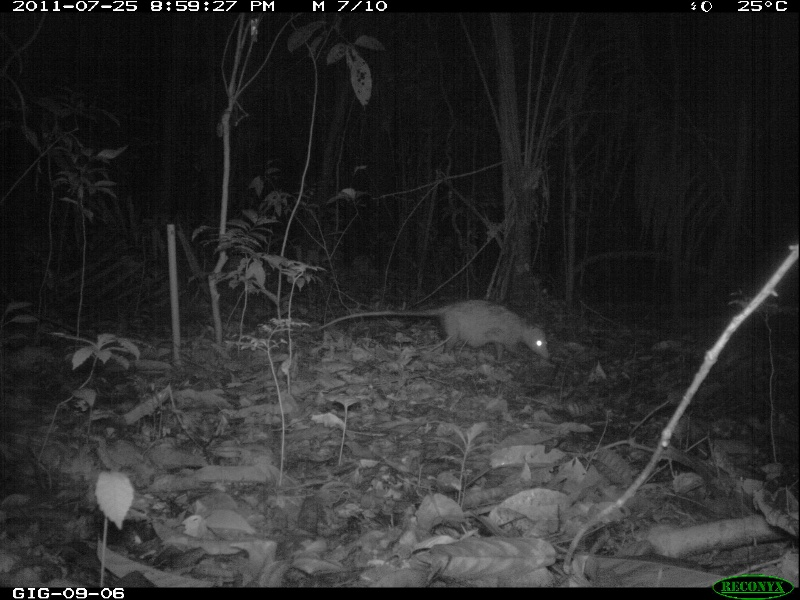opossum: (316, 299, 554, 359)
